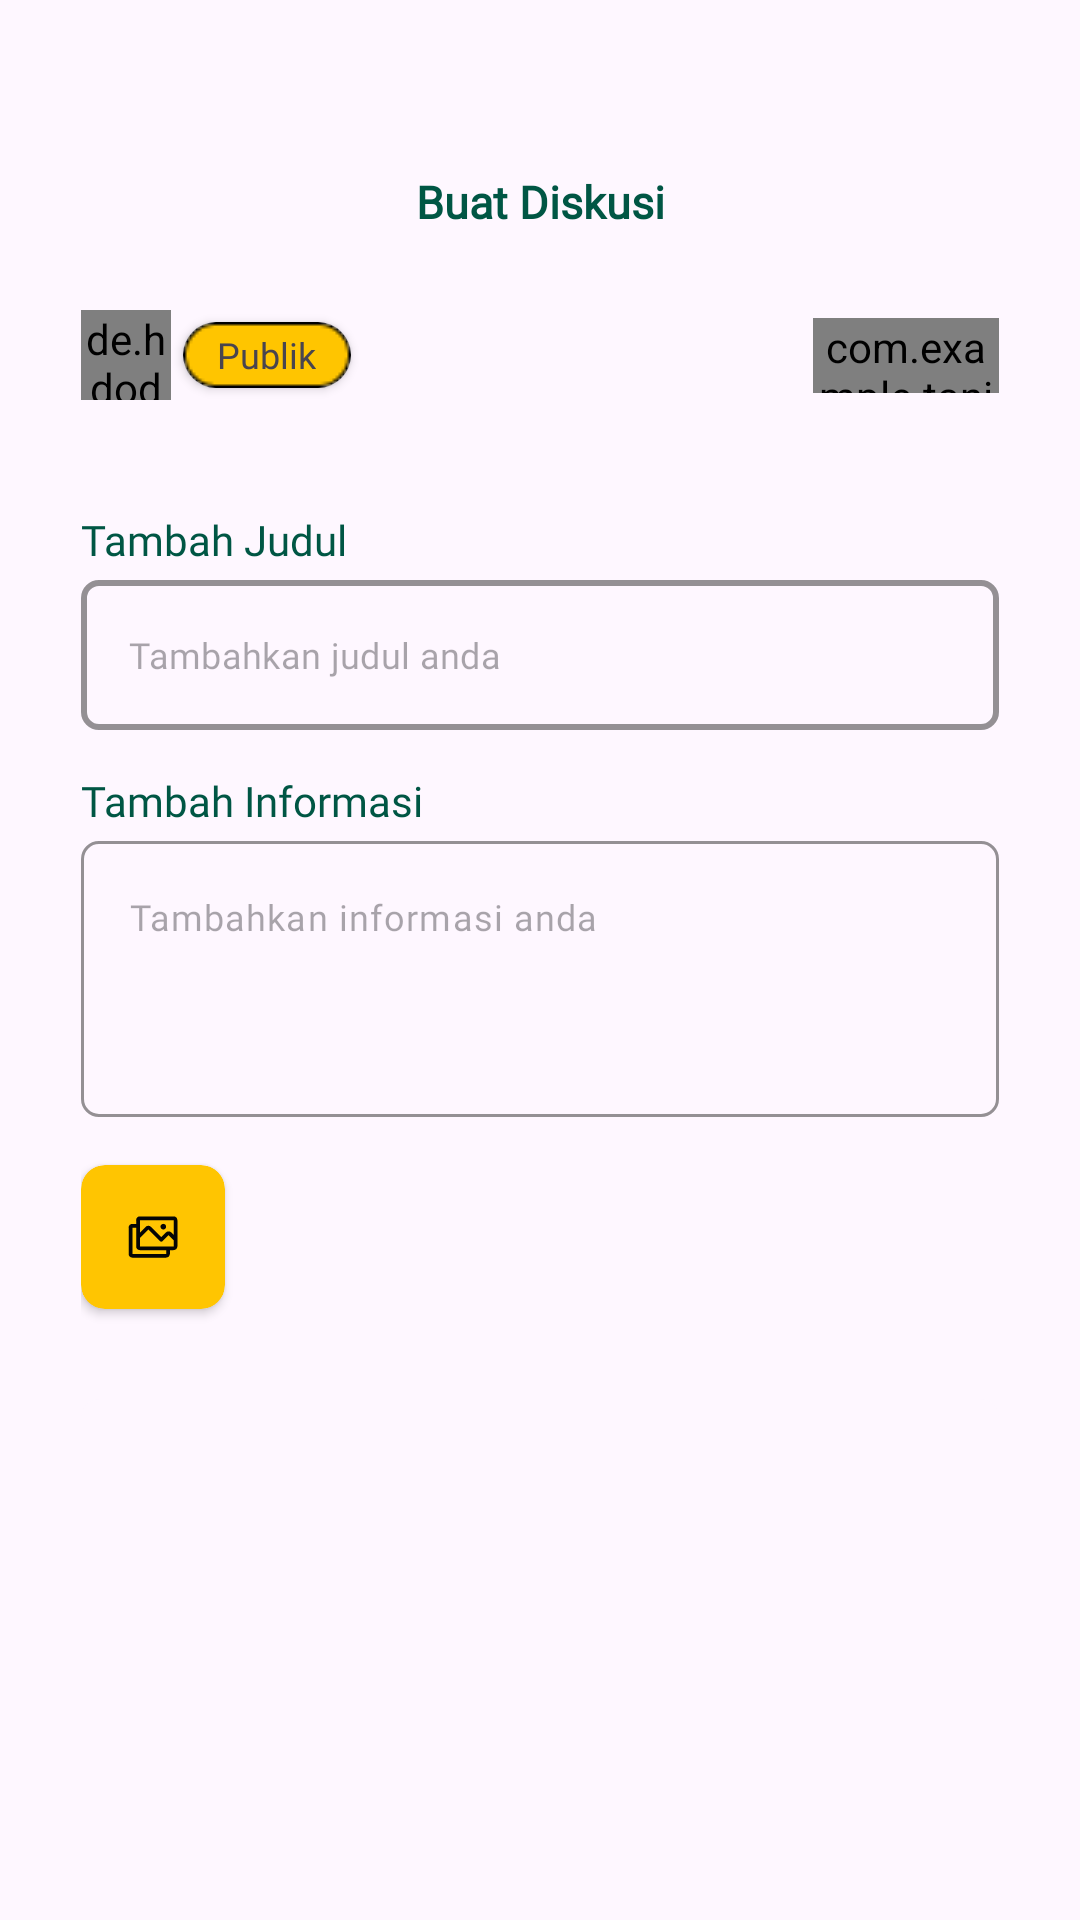

Named icons in this screenshot (1080px×1920px) and their bounding boxes, box(x1, y1, x2, y2):
gallery: box(128, 1216, 178, 1258)
